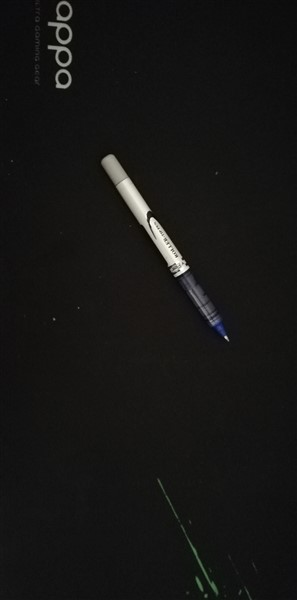pilot kalem: (95, 151, 235, 350)
